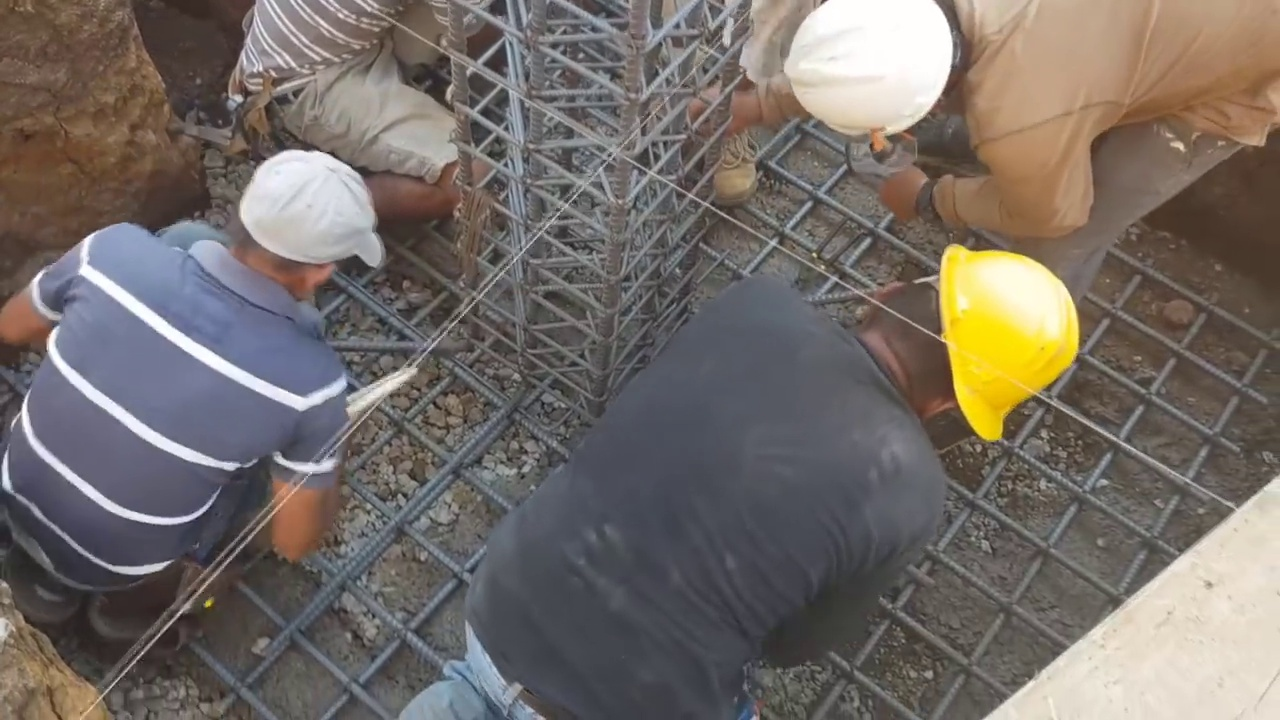helmet: (931, 242, 1088, 432), (790, 0, 949, 146)
helmet-off: (228, 147, 387, 307)
helmet-on: (836, 237, 1089, 438), (787, 0, 987, 143)
person: (395, 235, 1089, 719), (0, 127, 409, 634), (782, 0, 1280, 290), (222, 0, 511, 243), (618, 2, 794, 200)
